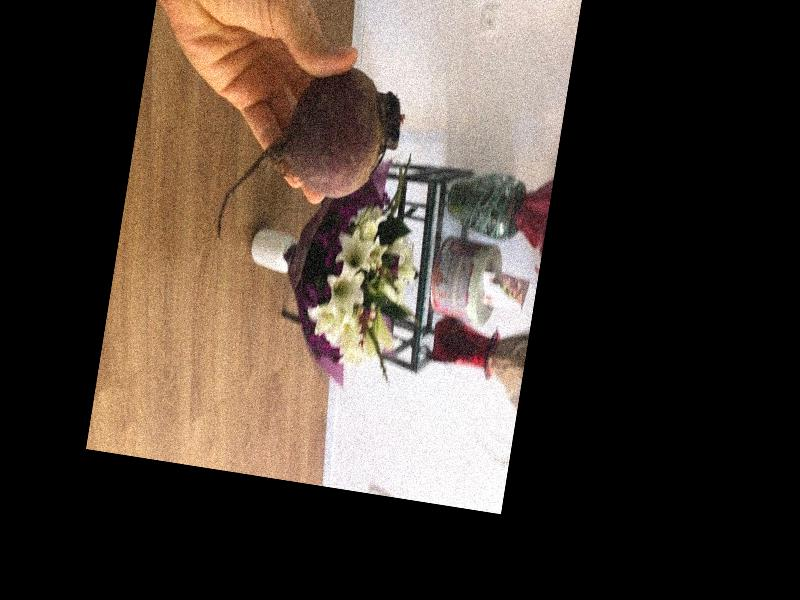Beet: (215, 51, 409, 267)
